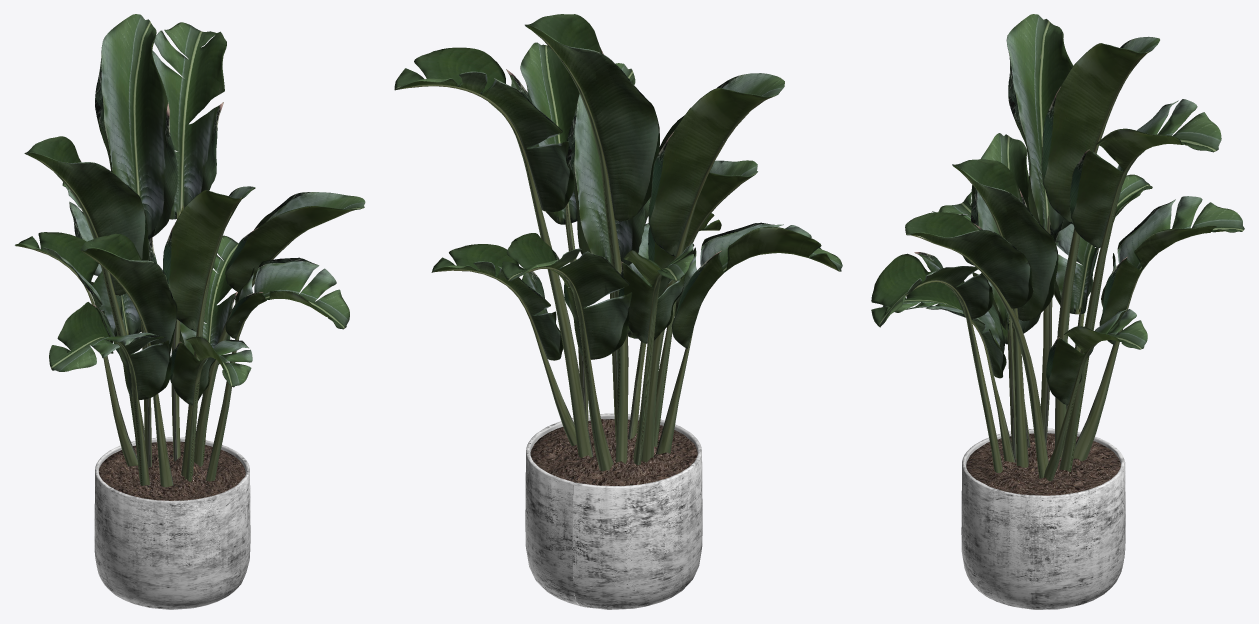
File: plant_banana.glb
The picture shows the model from 3 angles, left to right: view 1: azimuth 30°, elevation 25°; view 2: azimuth 150°, elevation 25°; view 3: azimuth 270°, elevation 25°; orthographic projection. The views are drawn at different scales.
Visible parts, largest first — view 1: Object_9, Object_8, Object_5, Object_10, Object_6; view 2: Object_8, Object_9, Object_5, Object_10, Object_6; view 3: Object_9, Object_8, Object_5, Object_10, Object_6.
Part boxes in pixels (x1,y1,x2,y2): Object_9: (15, 14, 365, 404); Object_8: (16, 40, 356, 405); Object_5: (94, 437, 250, 609); Object_10: (19, 66, 354, 487); Object_6: (99, 441, 245, 500); Object_8: (397, 25, 837, 360); Object_9: (394, 14, 842, 359); Object_5: (525, 413, 702, 609); Object_10: (398, 31, 837, 471); Object_6: (530, 419, 697, 486); Object_9: (871, 14, 1244, 403); Object_8: (906, 43, 1226, 404); Object_5: (961, 428, 1125, 609); Object_10: (905, 53, 1149, 481); Object_6: (966, 433, 1120, 495).
Bounding box in the file's own units: 1.08 × 1.88 × 1.14.
5 materials, 5 textured.
